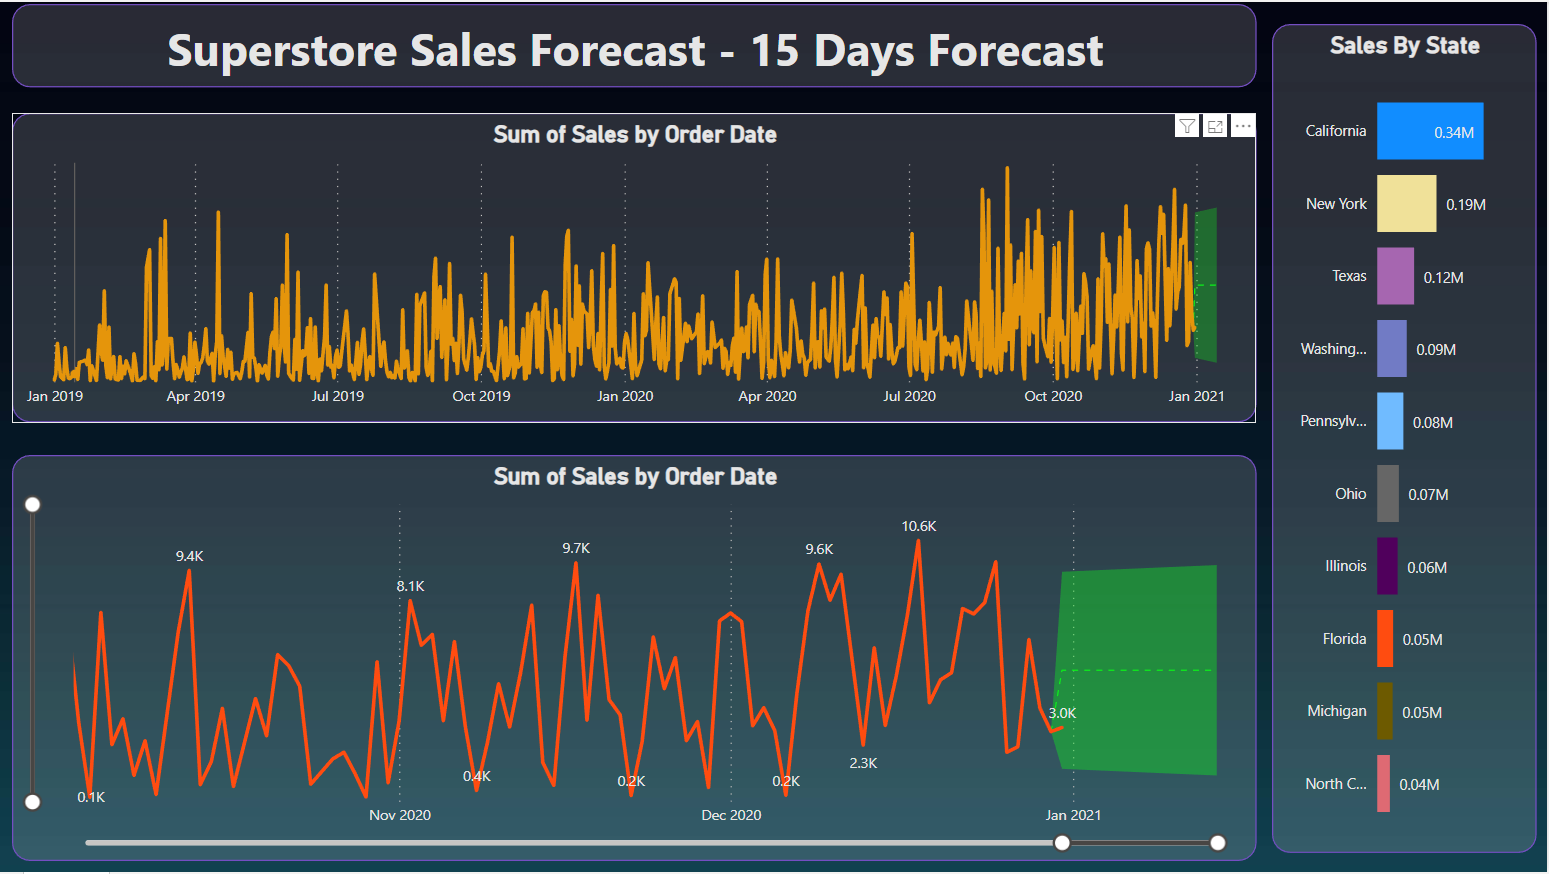

Layout of this report page (visuals, bound fields, positions):
{"tool":"powerbi","page":{"name":"Forecast","canvas":[1280,720],"ordinal":1},"visuals":[{"type":"lineChart","fields":{"Y":["Sum(SuperStore_Sales_Dataset.Sales)"],"Category":["SuperStore_Sales_Dataset.Order Date"]},"box":[9.7,92.2,1030,256.4],"z":0},{"type":"lineChart","fields":{"Y":["Sum(SuperStore_Sales_Dataset.Sales)"],"Category":["SuperStore_Sales_Dataset.Order Date"]},"box":[9.7,375.2,1030.2,336.3],"z":1},{"type":"textbox","box":[9.7,1.8,1030,69.4],"z":2},{"type":"clusteredBarChart","title":"Sales By State","fields":{"Y":["Sum(SuperStore_Sales_Dataset.Sales)"],"Category":["SuperStore_Sales_Dataset.State"]},"box":[1052.6,18.5,218.7,686.2],"z":3}]}

Visuals, with their boxes in screenshot pixels (x1, y1, x2, y2), scaled from the page's 1280x720 canvas onto the 1549x874 screenshot:
lineChart - Sum(SuperStore_Sales_Dataset.Sales) x SuperStore_Sales_Dataset.Order Date: 12/112/1258/423
lineChart - Sum(SuperStore_Sales_Dataset.Sales) x SuperStore_Sales_Dataset.Order Date: 12/455/1258/864
textbox: 12/2/1258/86
"Sales By State" clusteredBarChart: 1274/22/1538/855
